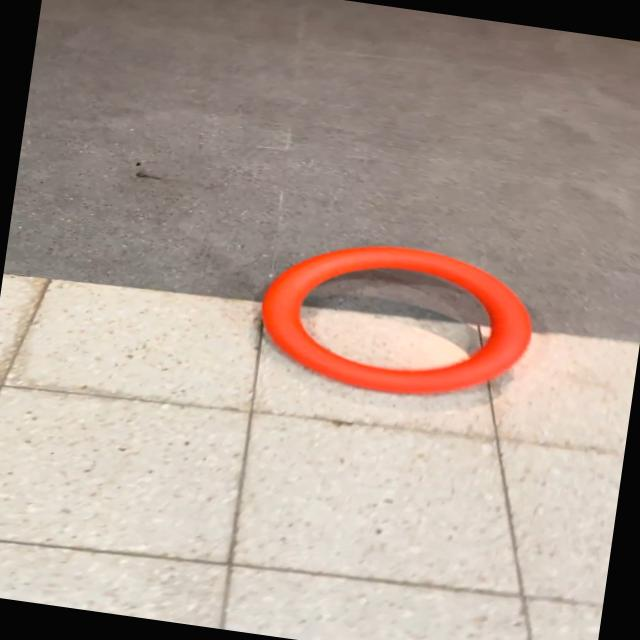note: (248, 226, 544, 414)
